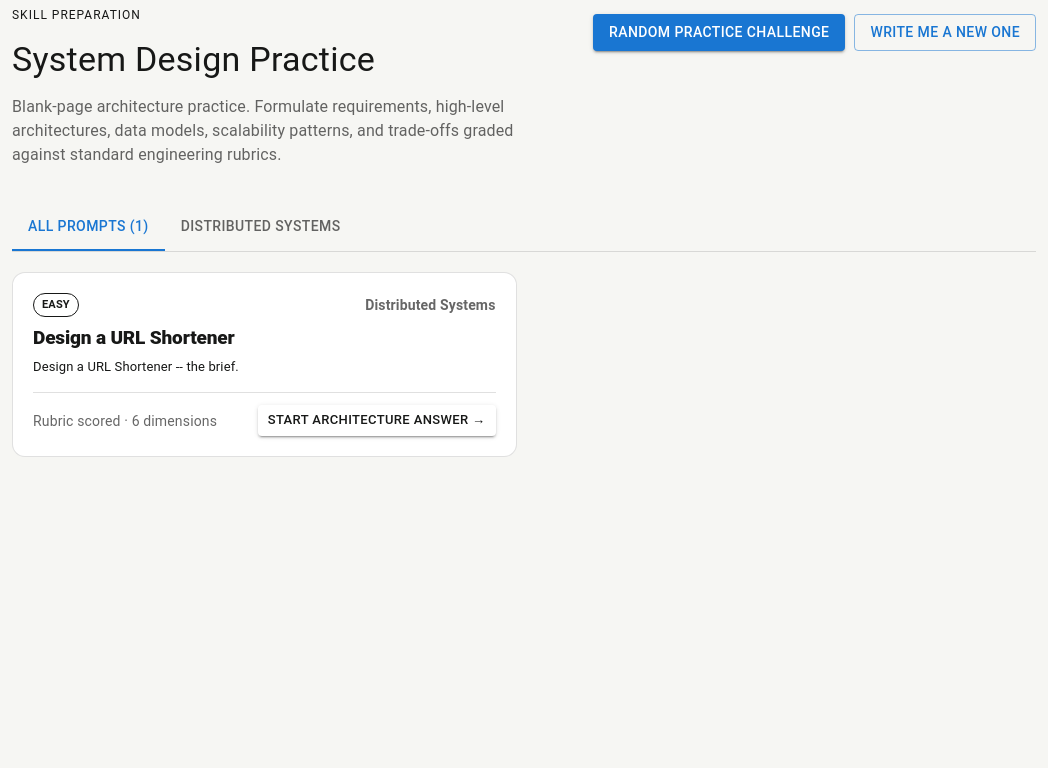
SystemDesignSetupPage › shows an inline error and does not navigate when generation fails (e.g. no API key)
Expected: the element "Design a URL Shortener" is shown, [12,272,516,457]
Expected: the button "write it" is not shown
Click the button "Write me a new one" at (945, 32), box [854,14,1036,50]
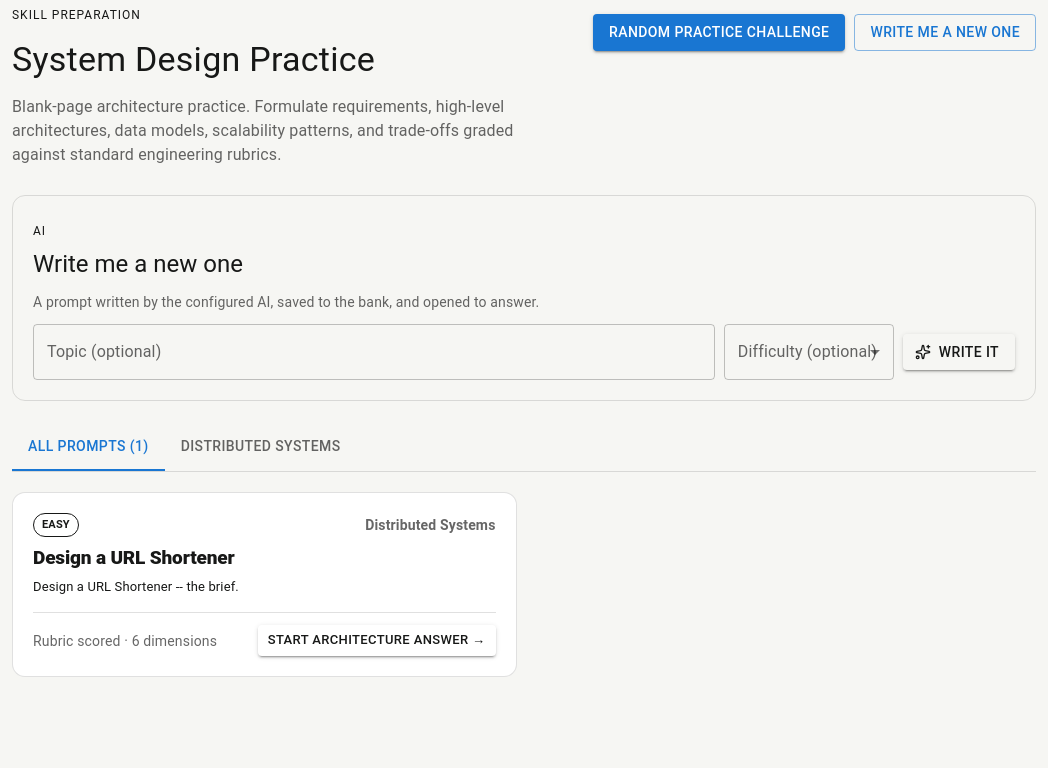
Click the button "Write it" at (959, 352), box [903,334,1015,370]
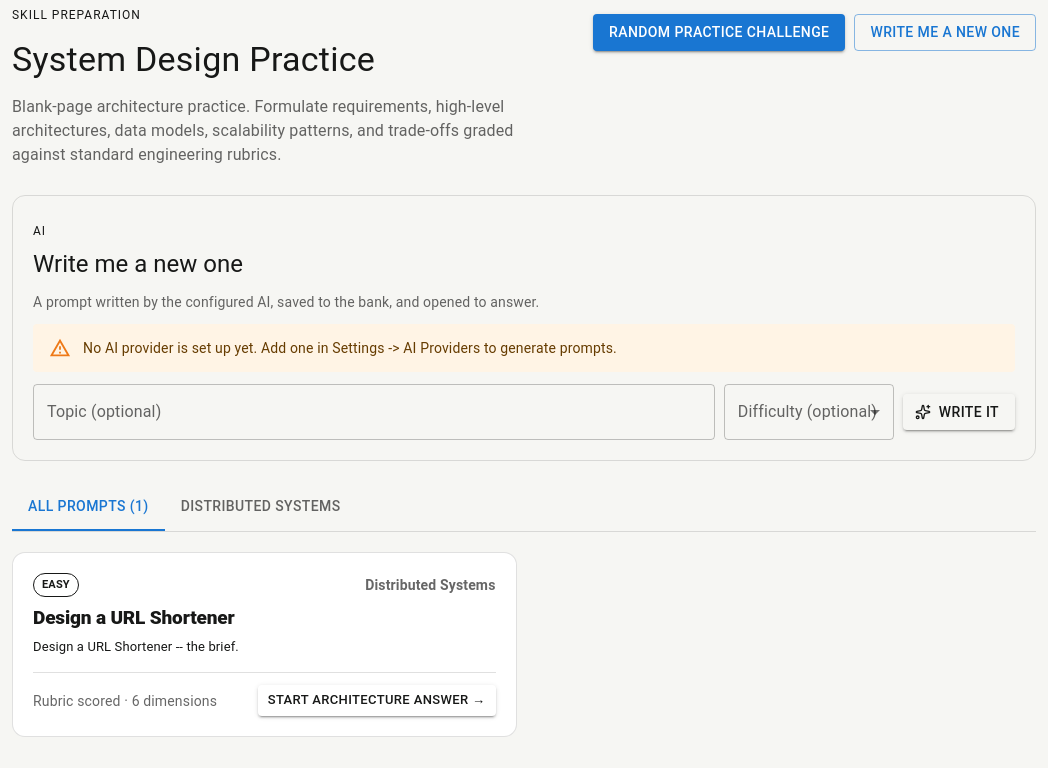
Expected: the text "Settings -> AI Providers" is shown, [83,340,617,356]
